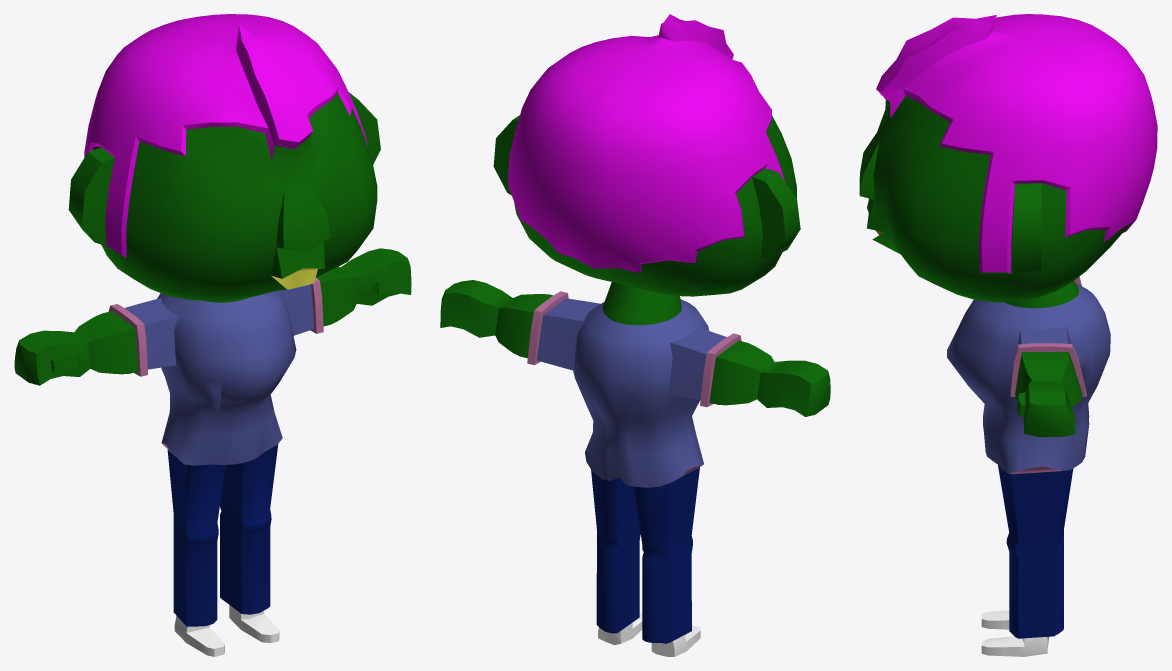
Rendered from person (2).FBX.
3 views of the same model, side by side, from view 1: azimuth 30°, elevation 25°; view 2: azimuth 150°, elevation 25°; view 3: azimuth 270°, elevation 25° (orthographic). The views are drawn at different scales.
Visible parts, largest first — view 1: Sphere001; view 2: Sphere001; view 3: Sphere001.
Boxes of the visible parts, left/top/right/bottom form: Sphere001: left=14, top=14, right=411, bottom=656; Sphere001: left=440, top=14, right=830, bottom=656; Sphere001: left=859, top=14, right=1157, bottom=656.
Bounding box in the file's own units: 102 × 157 × 67.8.
